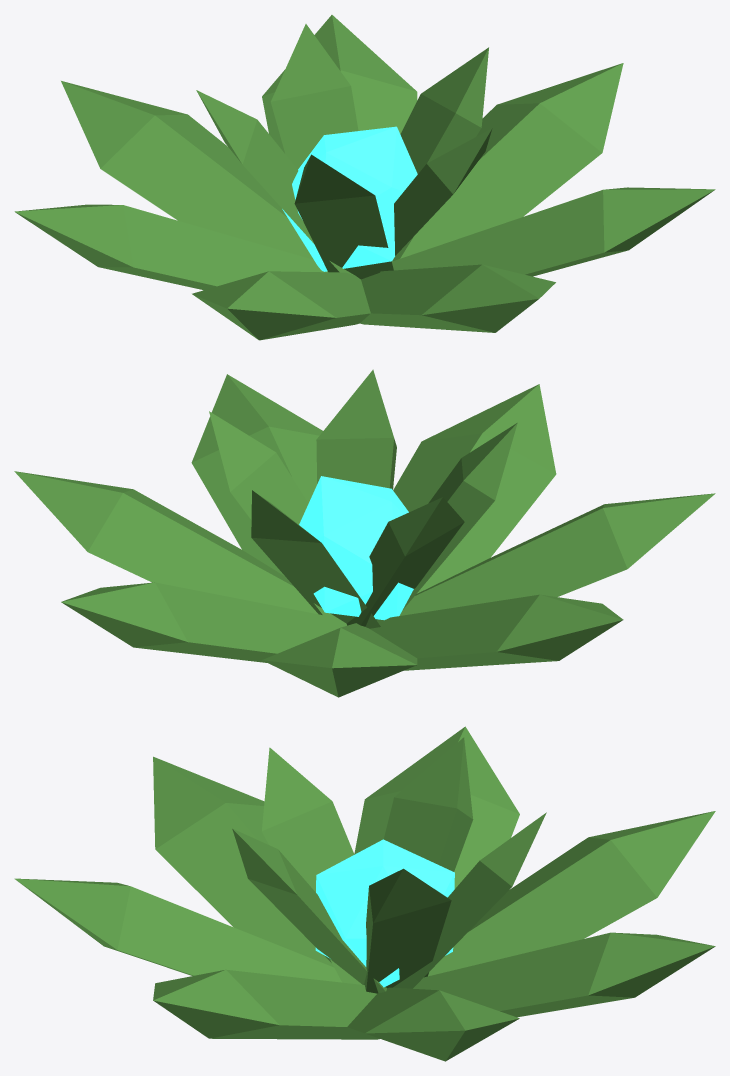
Rendered from Veg_Succulent_B.fbx.
3 views of the same model, one above another, from view 1: azimuth 30°, elevation 25°; view 2: azimuth 150°, elevation 25°; view 3: azimuth 270°, elevation 25° (orthographic). The views are drawn at different scales.
Parts seen in each view (by area): view 1: Veg_Succulent_B; view 2: Veg_Succulent_B; view 3: Veg_Succulent_B.
Part boxes in pixels (<box>): Veg_Succulent_B: <box>14,15,715,340</box>; Veg_Succulent_B: <box>14,369,715,697</box>; Veg_Succulent_B: <box>14,726,715,1061</box>.
Bounding box in the file's own units: 0.9039 × 0.3292 × 0.8813.
